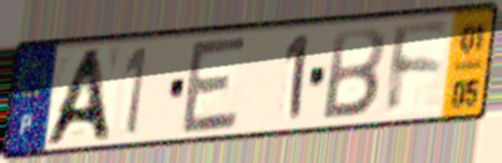1: (122, 44, 151, 139), (282, 31, 310, 124)
A: (38, 45, 115, 148)
B: (318, 24, 388, 122)
E: (178, 31, 251, 138)
F: (385, 18, 452, 120)
